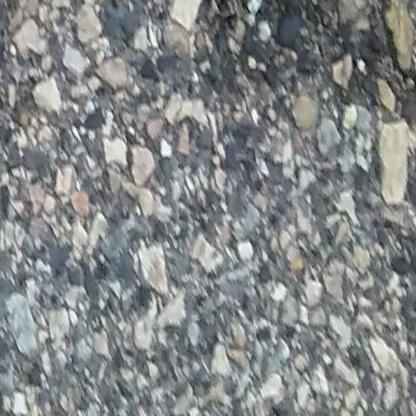Cracks: (182, 0, 416, 105)
